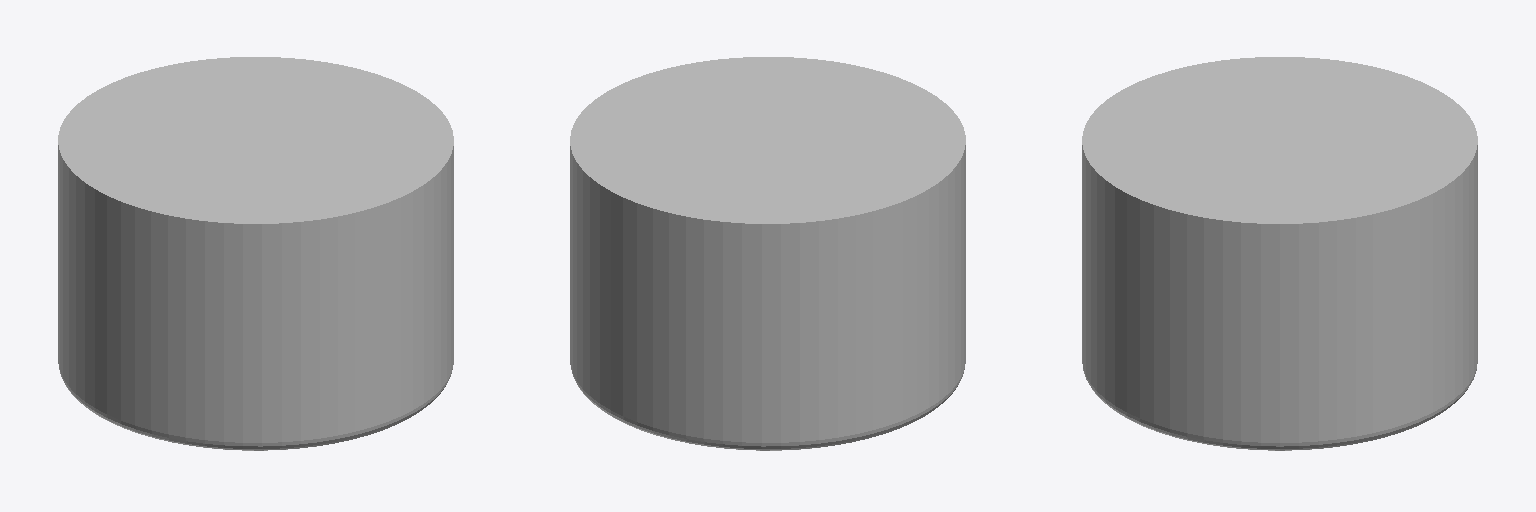
Rendered from Star.obj.
3 views of the same model, side by side, from view 1: azimuth 30°, elevation 25°; view 2: azimuth 150°, elevation 25°; view 3: azimuth 270°, elevation 25° (orthographic).
Visible parts, largest first — view 1: Star; view 2: Star; view 3: Star.
Part boxes in pixels (x1,y1,x2,y2): Star: (58,57,453,450); Star: (570,57,965,450); Star: (1082,57,1477,450).
Bounding box in the file's own units: 5.9 × 3.8 × 5.9.